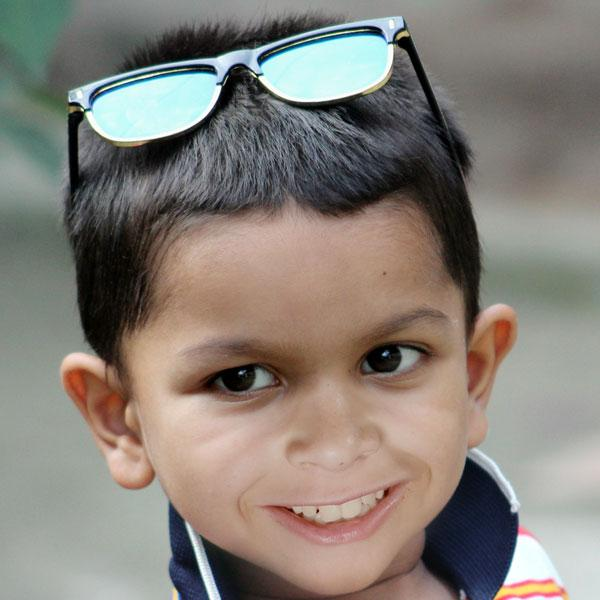Eyes: (337, 319, 450, 393), (184, 348, 296, 412)
